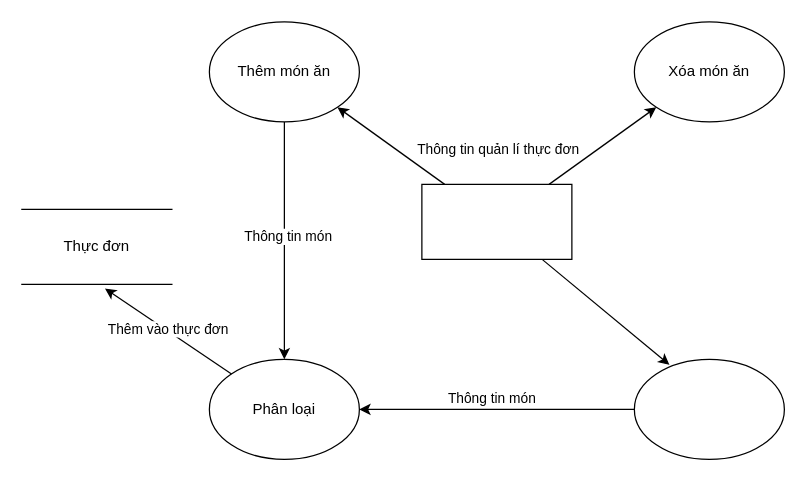
Image size: 806x481. Some labels were removed from this diagram. Each missing label, with the centre of its shape:
Chỉnh sửa món: point (708, 408)
Quản lí: point (496, 221)
